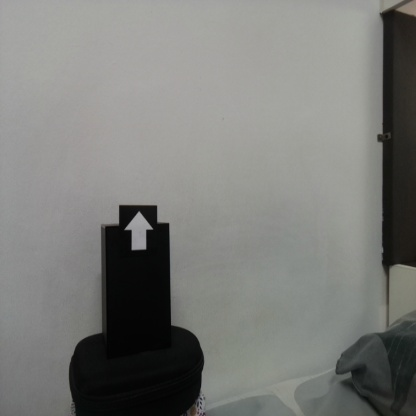id_1: (119, 205, 157, 260)
